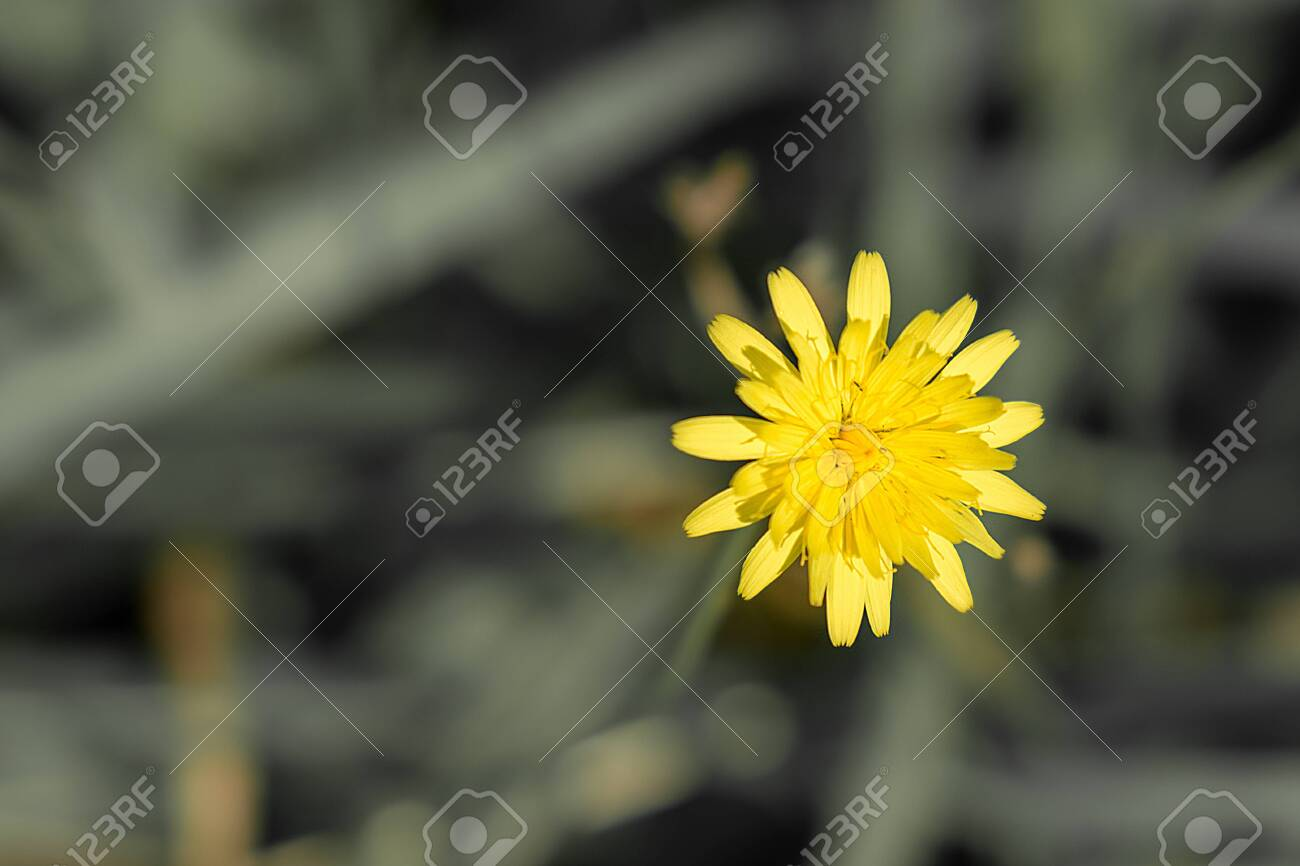dandelion: (667, 250, 1047, 622)
